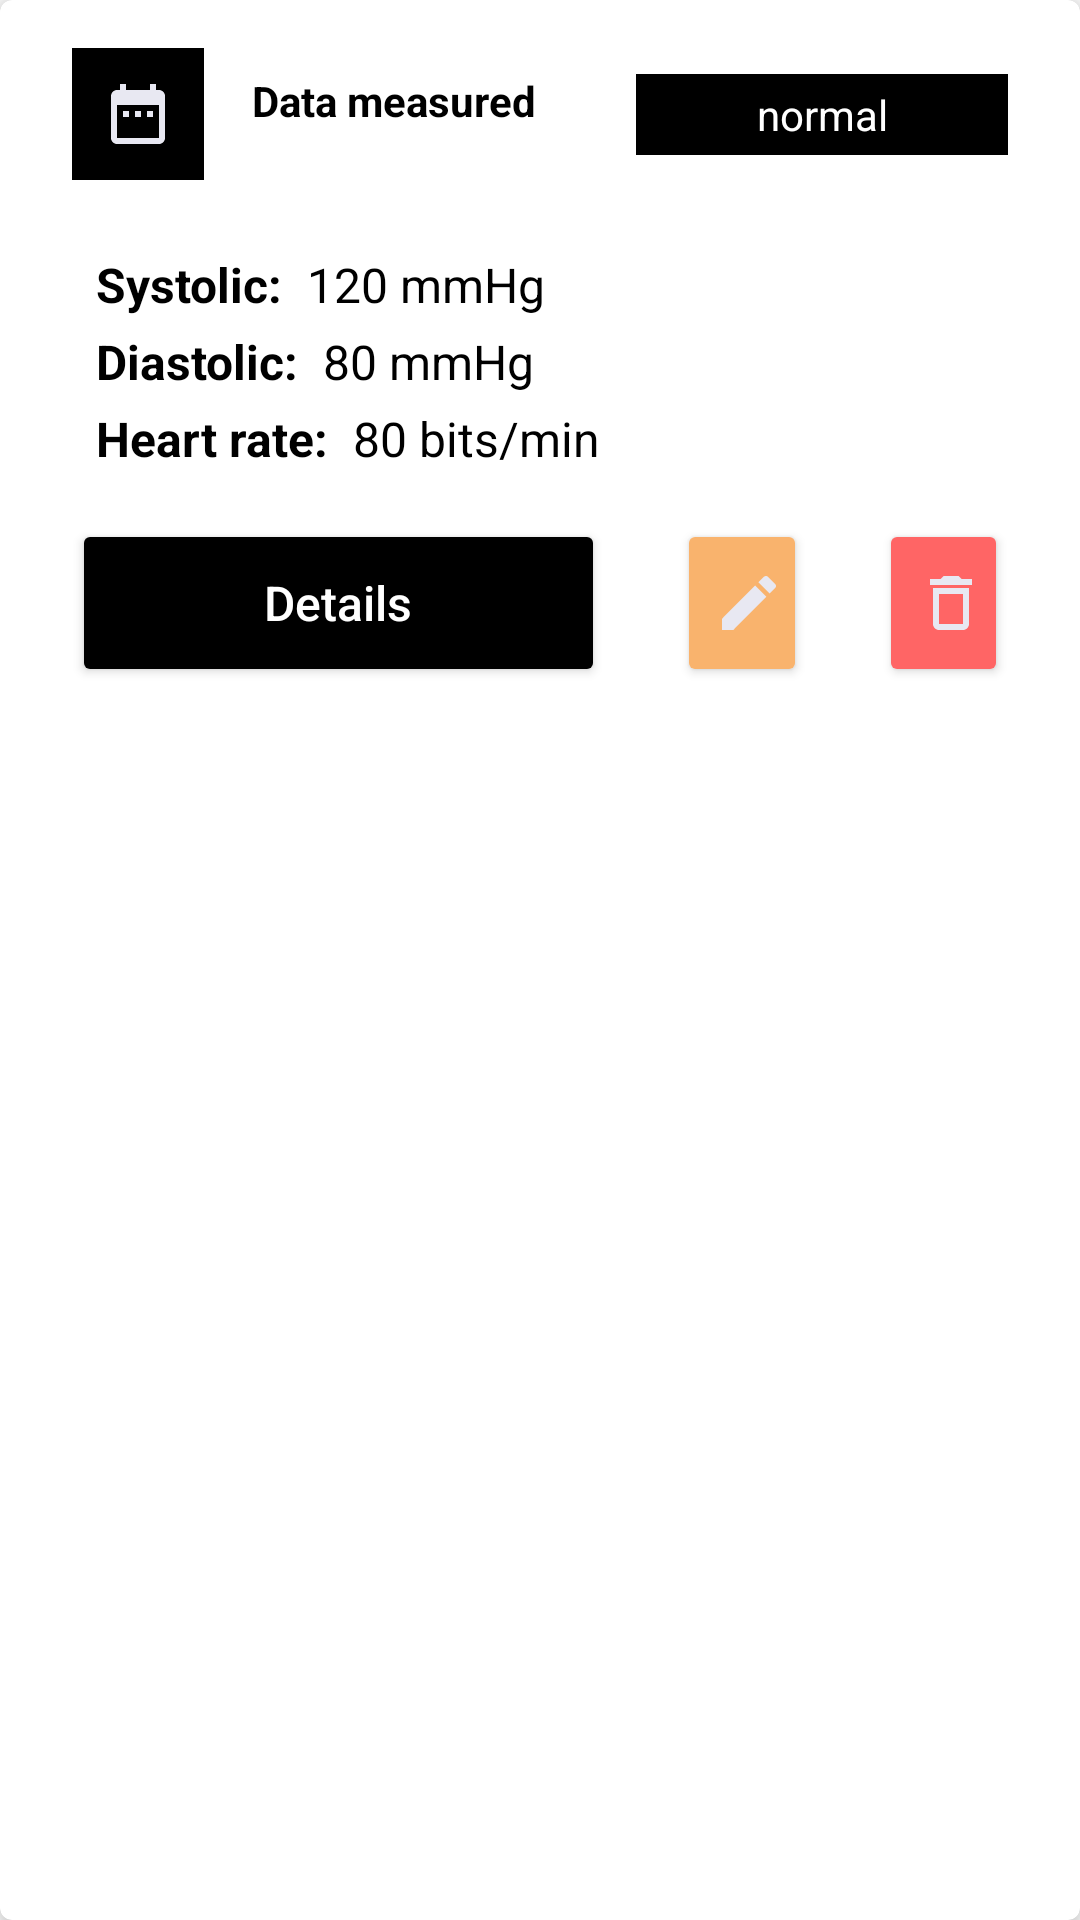

Icons on this 1080px x 1920px Android screen, each with the point to tap as (x,y):
date range: (138,114)
